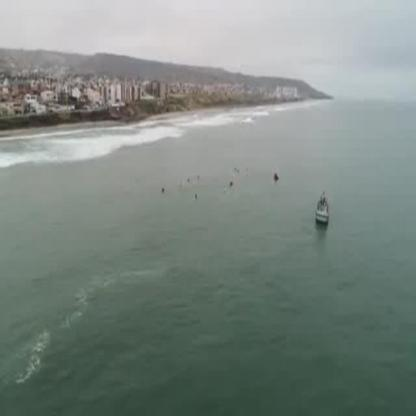Boat: (312, 196, 336, 226)
